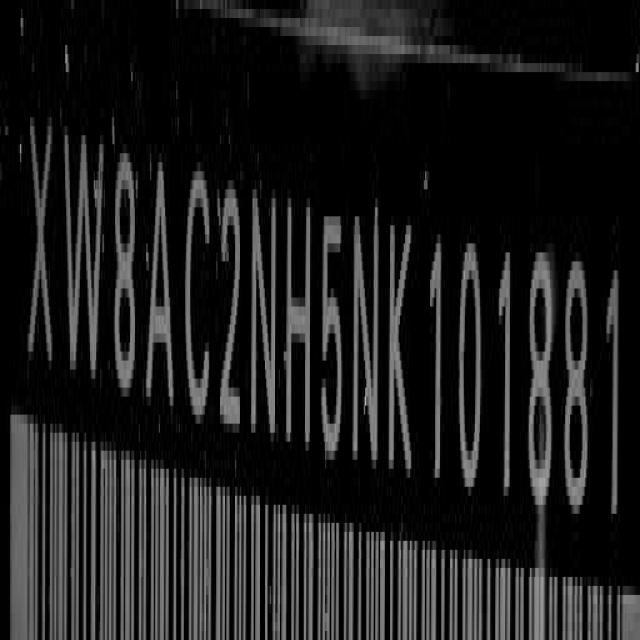0: (454, 231, 480, 503)
1: (496, 241, 518, 509), (428, 225, 443, 500), (607, 256, 622, 528)
2: (220, 175, 242, 446)
5: (321, 199, 345, 470)
8: (566, 252, 591, 525), (114, 144, 138, 408), (528, 253, 552, 516)
A: (145, 153, 174, 421)
C: (185, 168, 215, 434)
H: (286, 190, 314, 464)
K: (391, 212, 415, 490)
N: (353, 200, 383, 480), (251, 181, 279, 453)
W: (62, 115, 100, 397)
X: (25, 109, 55, 384)
